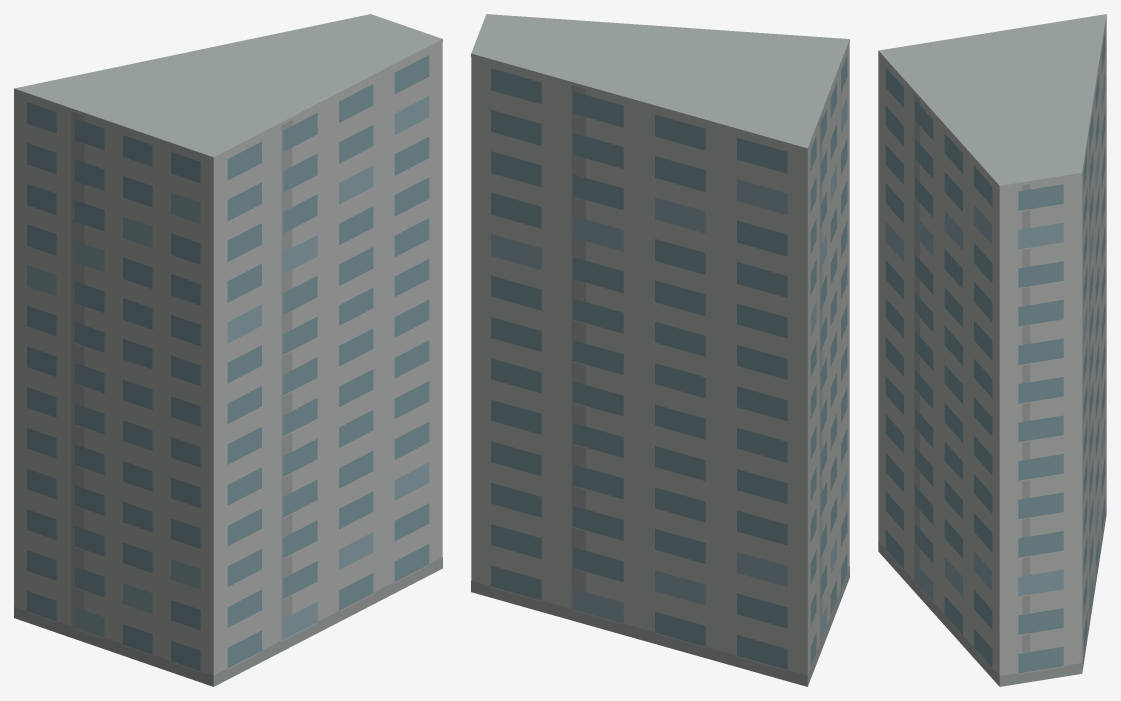
File: residential-37918776-6f25-45e0-afab-3788fe446b22.glb
3 views of the same model, side by side, from view 1: azimuth 30°, elevation 25°; view 2: azimuth 150°, elevation 25°; view 3: azimuth 270°, elevation 25° (orthographic). The views are drawn at different scales.
Visible parts, largest first — view 1: residential-37918776-6f25-45e0-afab-3788fe446b22.tmp; view 2: residential-37918776-6f25-45e0-afab-3788fe446b22.tmp; view 3: residential-37918776-6f25-45e0-afab-3788fe446b22.tmp.
Part boxes in pixels (box(x1,y1,x2,y2)): residential-37918776-6f25-45e0-afab-3788fe446b22.tmp: box(14, 14, 442, 686); residential-37918776-6f25-45e0-afab-3788fe446b22.tmp: box(471, 14, 849, 686); residential-37918776-6f25-45e0-afab-3788fe446b22.tmp: box(878, 14, 1106, 686).
Size of the model in its own units: 30.17 by 41 by 16.92.
